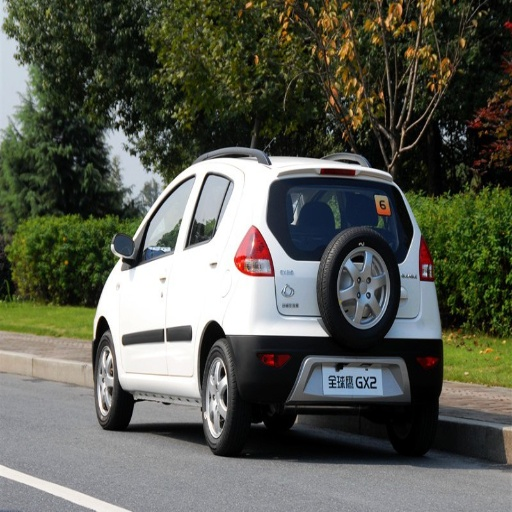back_bumper: (227, 276, 408, 413)
back_glass: (268, 179, 350, 240)
back_left_door: (165, 170, 234, 377)
trunk: (235, 240, 321, 315)
